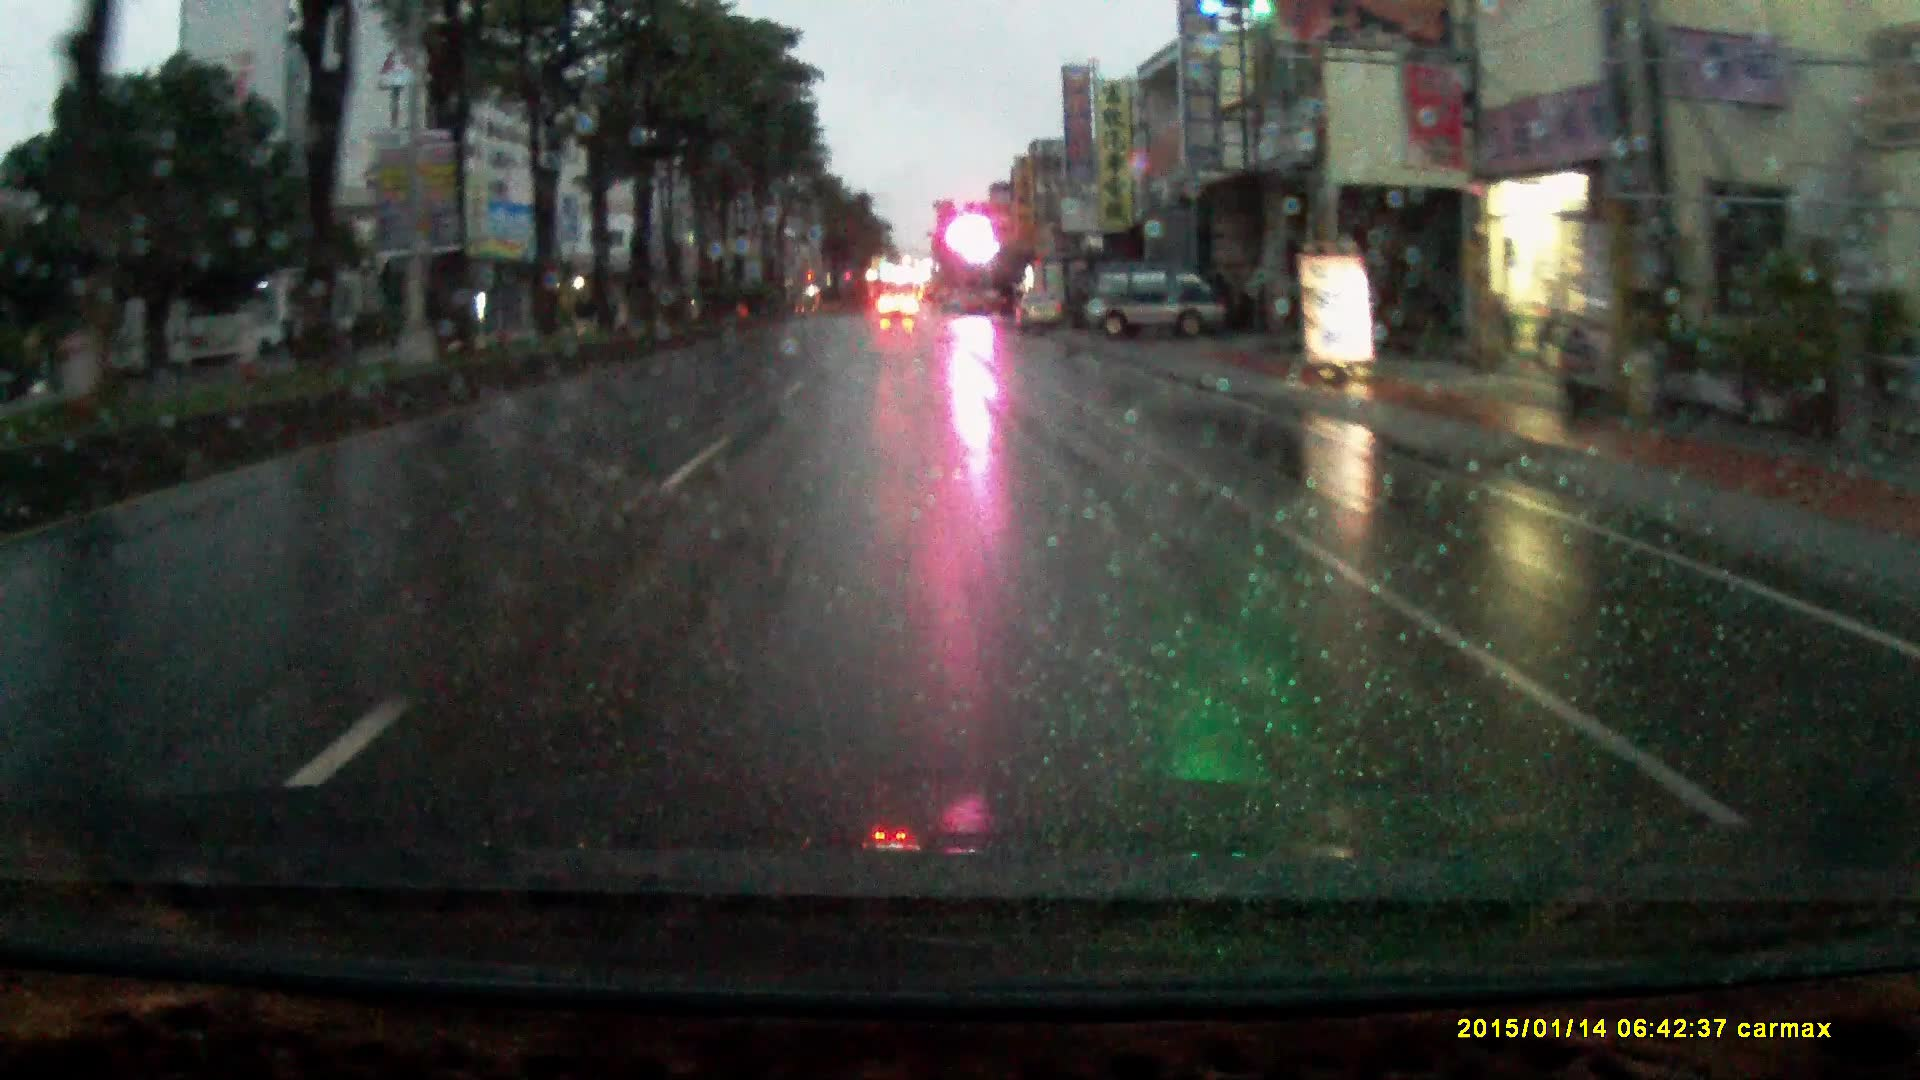vehicle: (1076, 269, 1233, 339), (1025, 245, 1095, 328), (1015, 291, 1065, 338), (877, 284, 919, 314)
